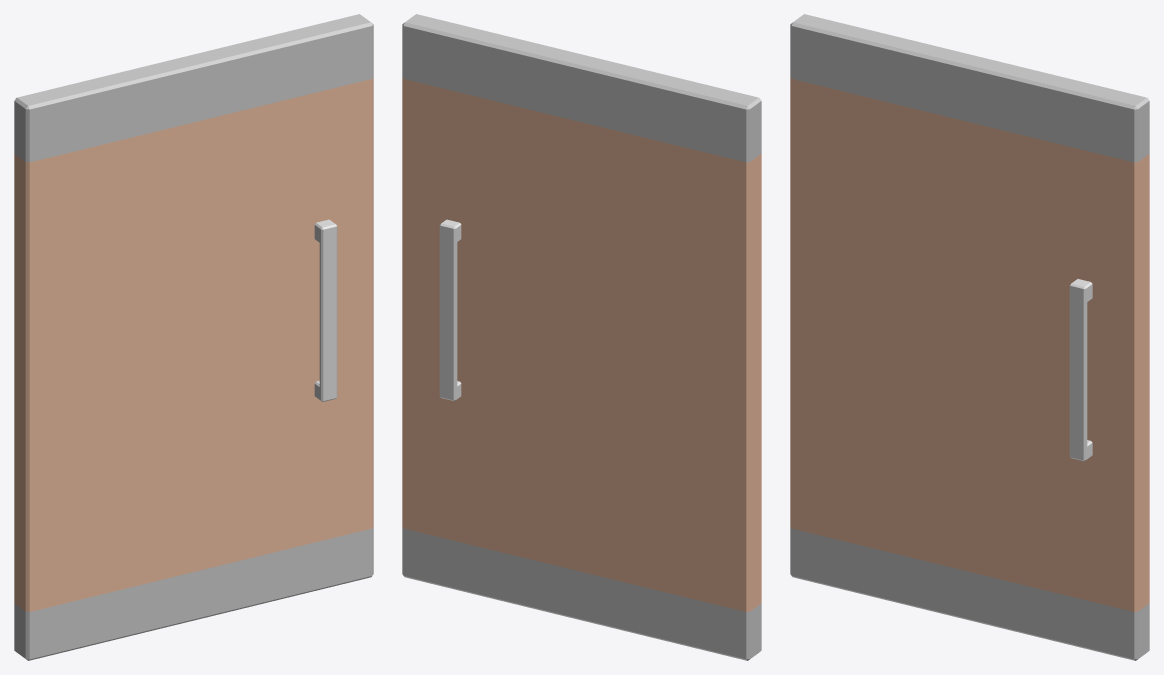
Rendered from BathroomDoor.fbx.
The picture shows the model from 3 angles, left to right: view 1: azimuth 30°, elevation 25°; view 2: azimuth 150°, elevation 25°; view 3: azimuth 330°, elevation 25°; orthographic projection.
Parts seen in each view (by area): view 1: BathroomDoor; view 2: BathroomDoor; view 3: BathroomDoor.
Boxes of the visible parts, x1=… form: BathroomDoor: x1=14, y1=14, x2=373, y2=660; BathroomDoor: x1=402, y1=14, x2=761, y2=660; BathroomDoor: x1=790, y1=14, x2=1149, y2=660.
Size of the model in its own units: 495 by 755 by 68.97.
